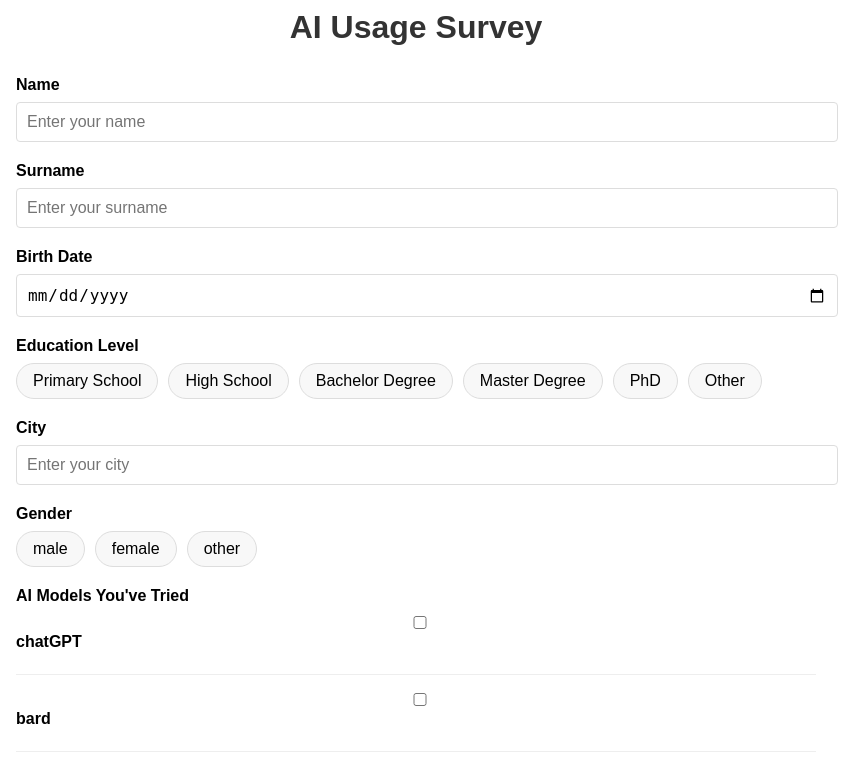
Test: SurveyPage Component › should persist AI model description when model is deselected and reselected
Note: Select chatGPT
Click the checkbox labelled "chatGPT".
click(420, 623)  # box [20,616,820,629]
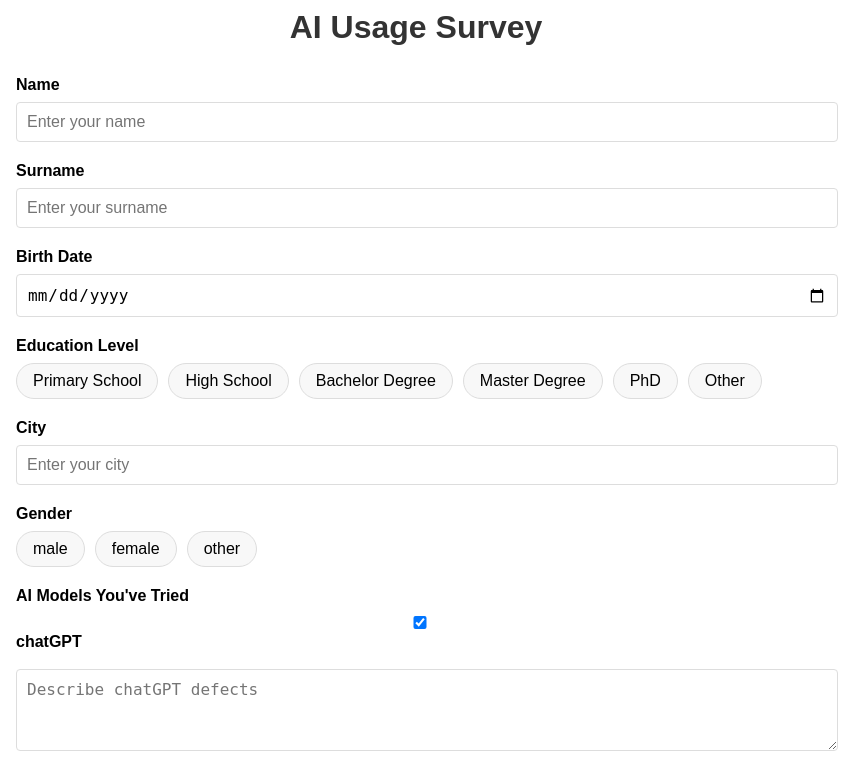
Note: Enter description
Type "Test description" into the text box with placeholder "Describe chatGPT defects".
click(427, 710); type("Test description")  # box [16,669,838,751]
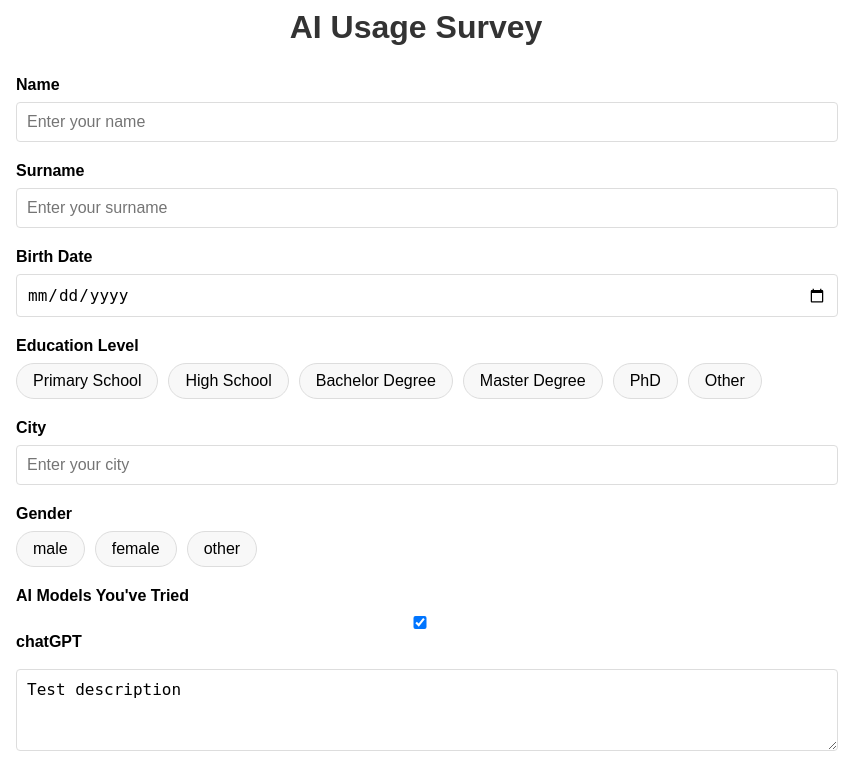
Note: Deselect chatGPT
Click the checkbox labelled "chatGPT".
click(420, 623)  # box [20,616,820,629]
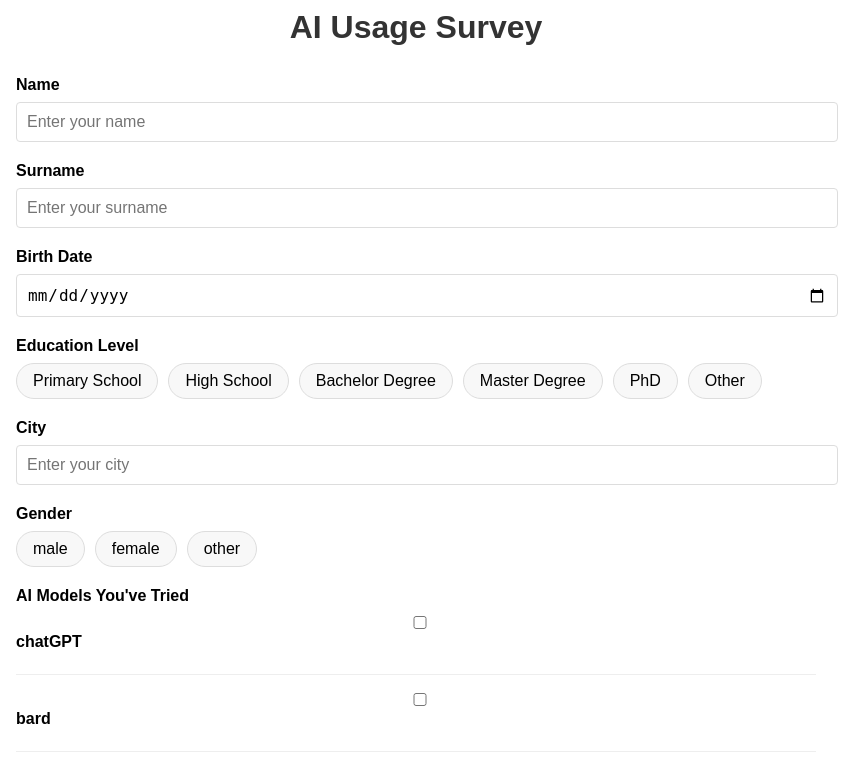
Expected: the field with placeholder "Describe chatGPT defects" is not shown
Note: Reselect chatGPT
Click the checkbox labelled "chatGPT".
click(420, 623)  # box [20,616,820,629]
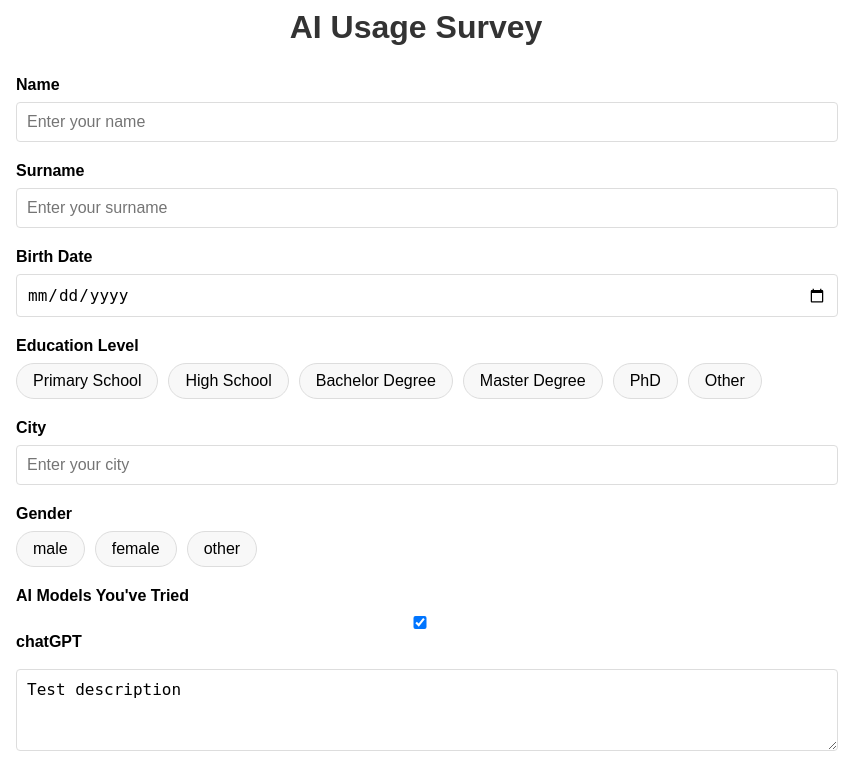
Result: the text box with placeholder "Describe chatGPT defects" holds "Test description" at [16,669,838,751]
